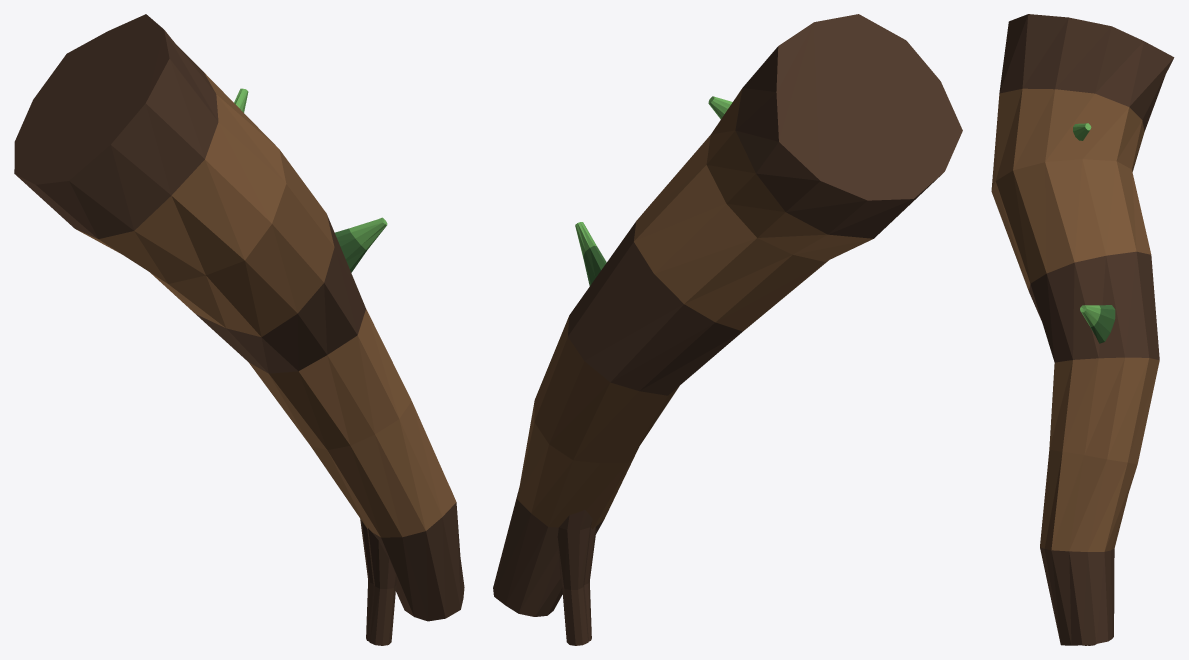
The model's file is RootLeg.obj.
3 renders of one model, left to right at view 1: azimuth 30°, elevation 25°; view 2: azimuth 150°, elevation 25°; view 3: azimuth 270°, elevation 25°, orthographic. The views are drawn at different scales.
Bounding box in the file's own units: 0.767 × 1.13 × 0.348.
